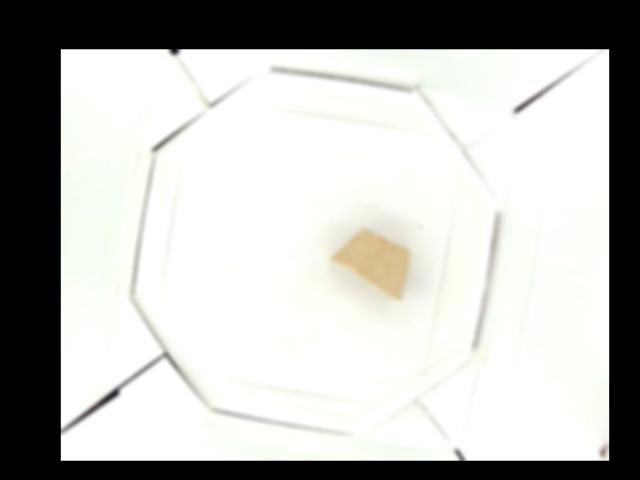China: (327, 228, 409, 296)
